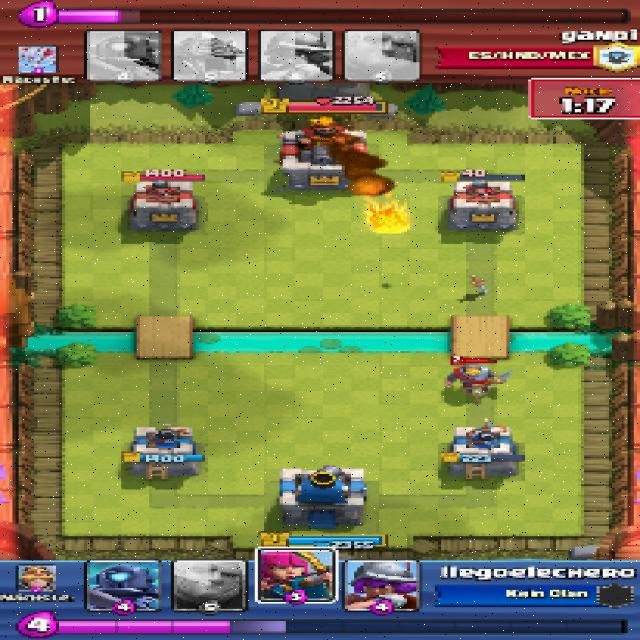Enemy-Fireball: (355, 189, 416, 235)
Enemy-Knight: (444, 364, 510, 394)
